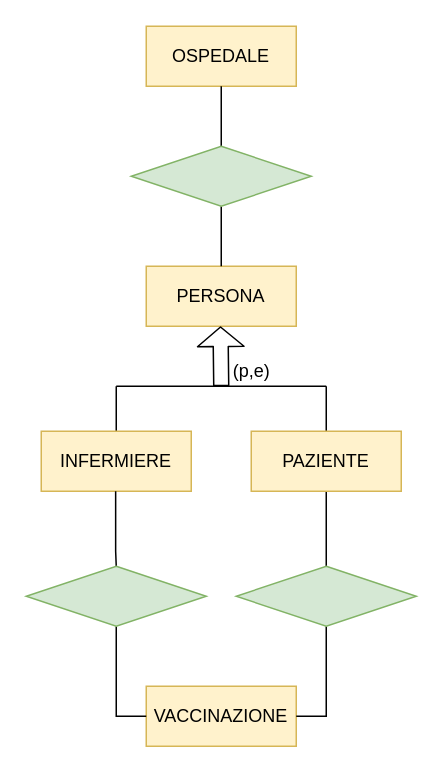
Image size: 443x773. Some labels were removed from this diagram. The centre of each missing label's shape, as x and y in pixels:
COMPRENDE: (x=220, y=175)
EFFETTUA: (x=115, y=595)
RICEVE: (x=325, y=595)
